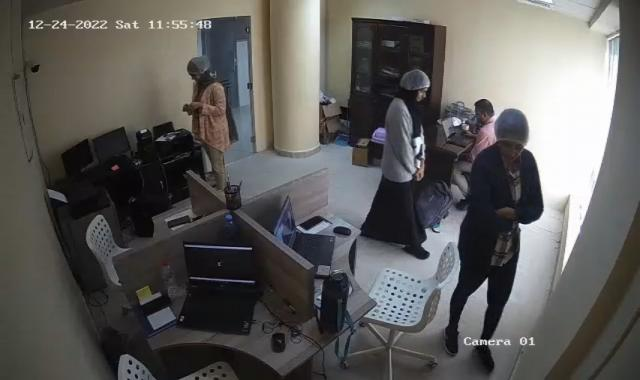hairnet: (494, 109, 532, 160), (402, 67, 430, 108), (185, 55, 213, 81)
no_hairnet: (474, 98, 494, 125)
